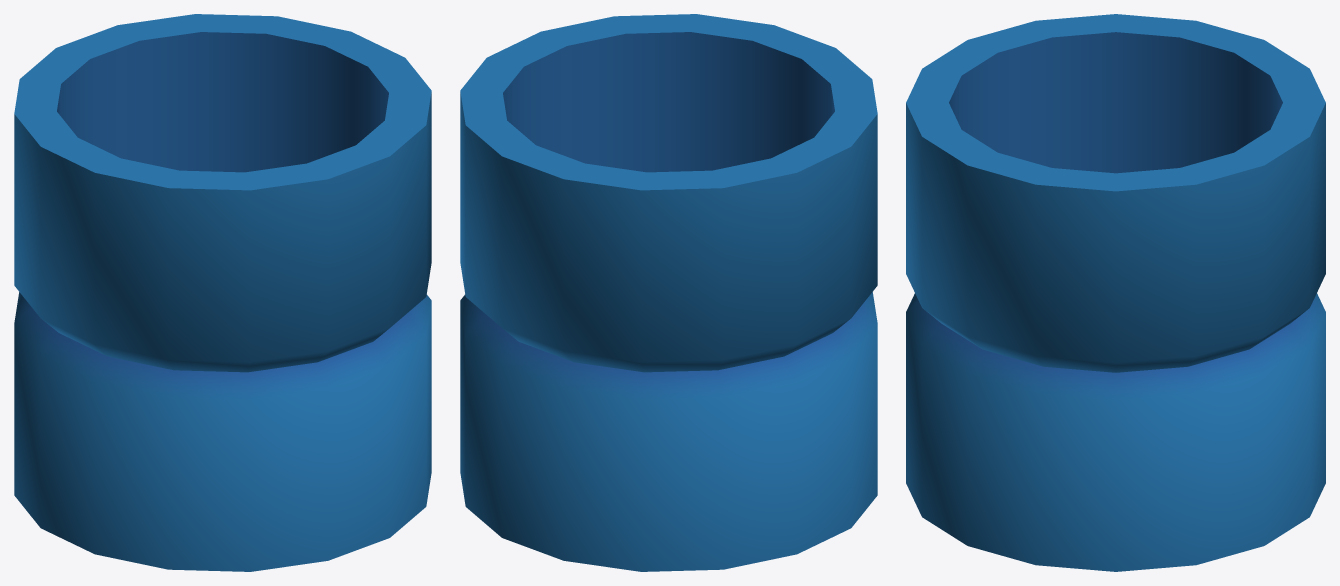
Rendered from kaykit_pipe_straight_B_blue.glb.
3 views of the same model, side by side, from view 1: azimuth 30°, elevation 25°; view 2: azimuth 150°, elevation 25°; view 3: azimuth 270°, elevation 25° (orthographic).
Visible parts, largest first — view 1: pipe_straight_B_blue_visual; view 2: pipe_straight_B_blue_visual; view 3: pipe_straight_B_blue_visual.
Boxes of the visible parts, x1,y1,x2,y2 form: pipe_straight_B_blue_visual: (14, 14, 431, 571); pipe_straight_B_blue_visual: (460, 14, 877, 571); pipe_straight_B_blue_visual: (906, 14, 1325, 571).
Size of what is drawn, in the model's own units: 2 by 2 by 2.
1 material, 1 textured.
